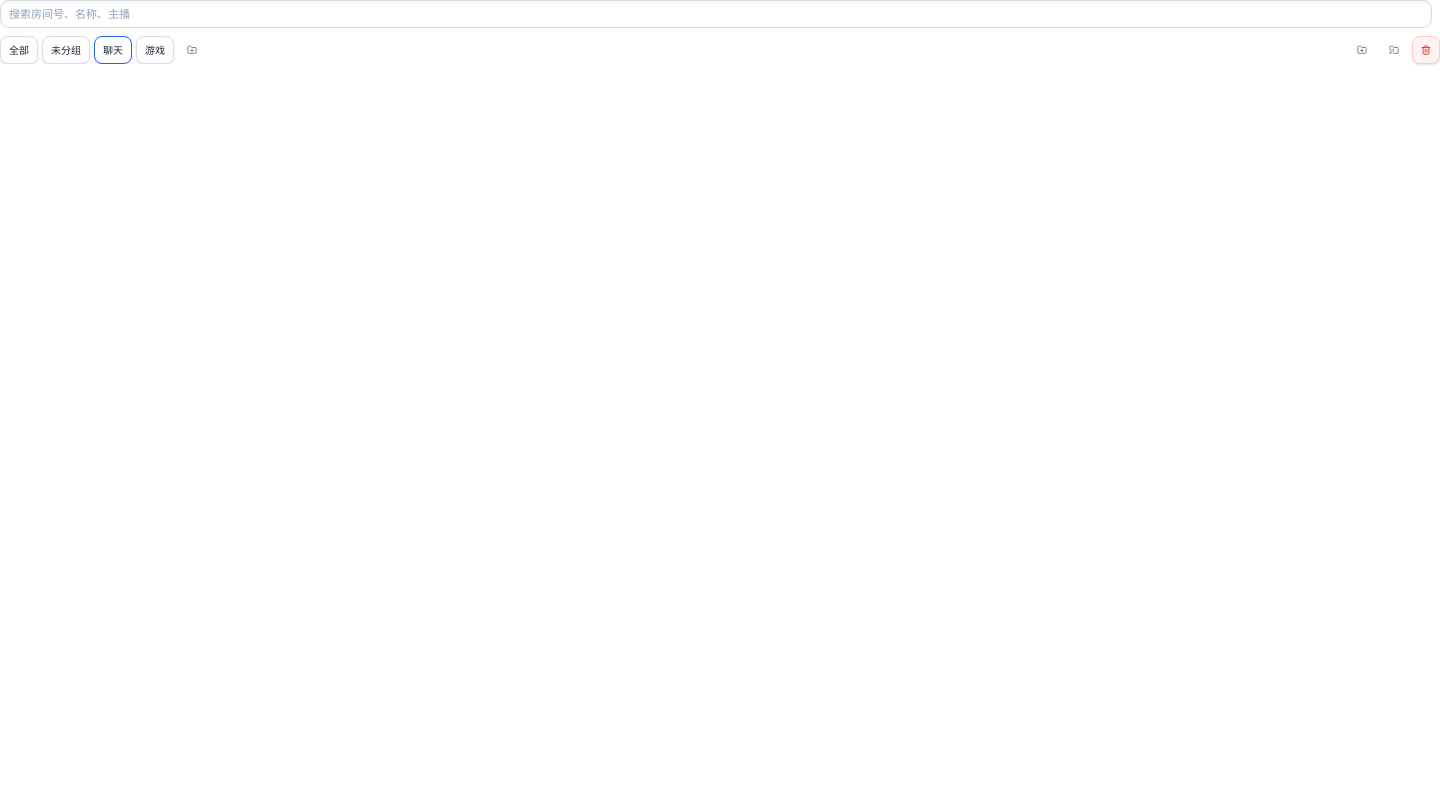
it: keeps delete confirmation and cancellation
Click the button named "删除分组". click: click(1426, 50)
box: [1412,36,1439,64]
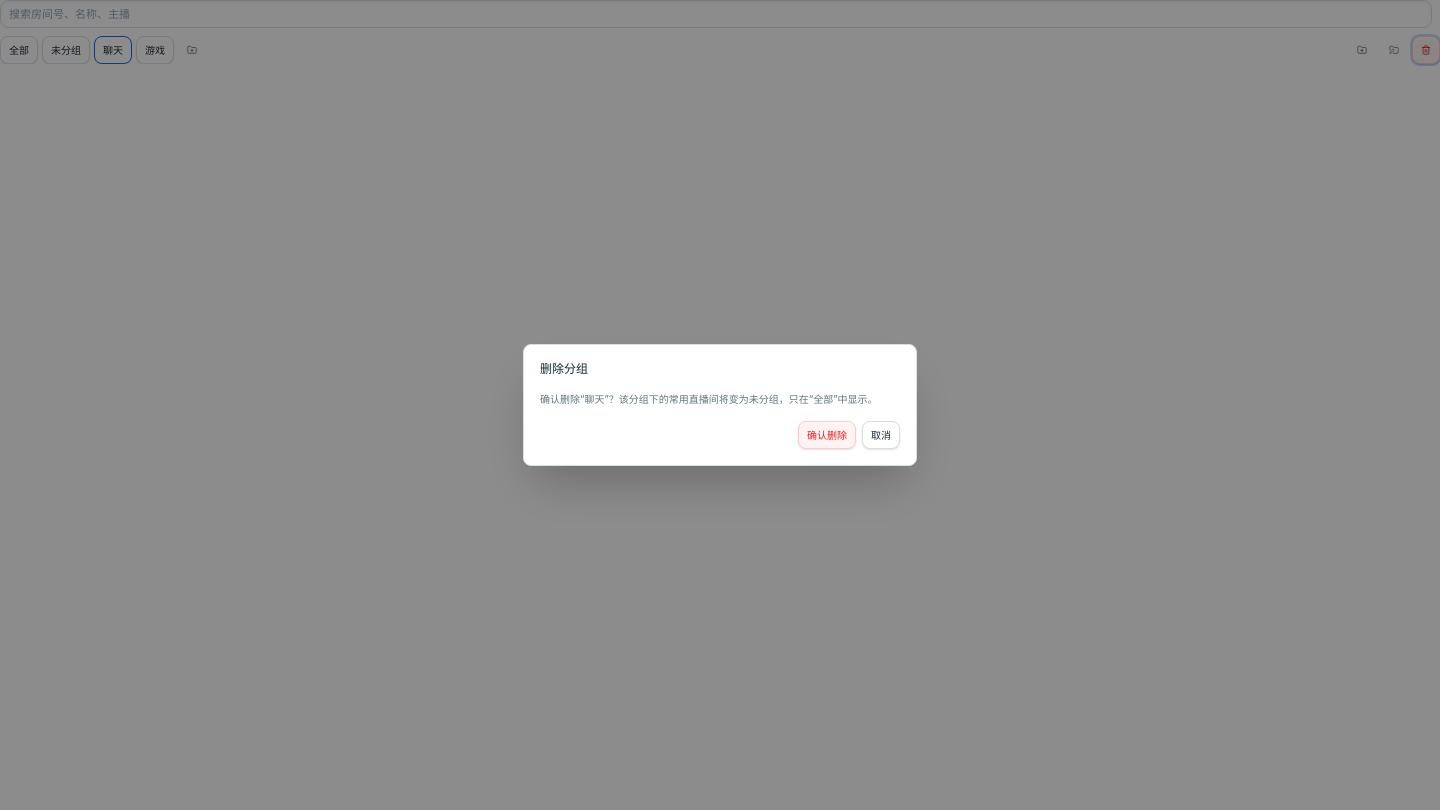
Expected: the dialog "删除分组" is shown, [523,344,917,466]
Click the button "取消". click: click(881, 435)
box: [862,421,900,449]
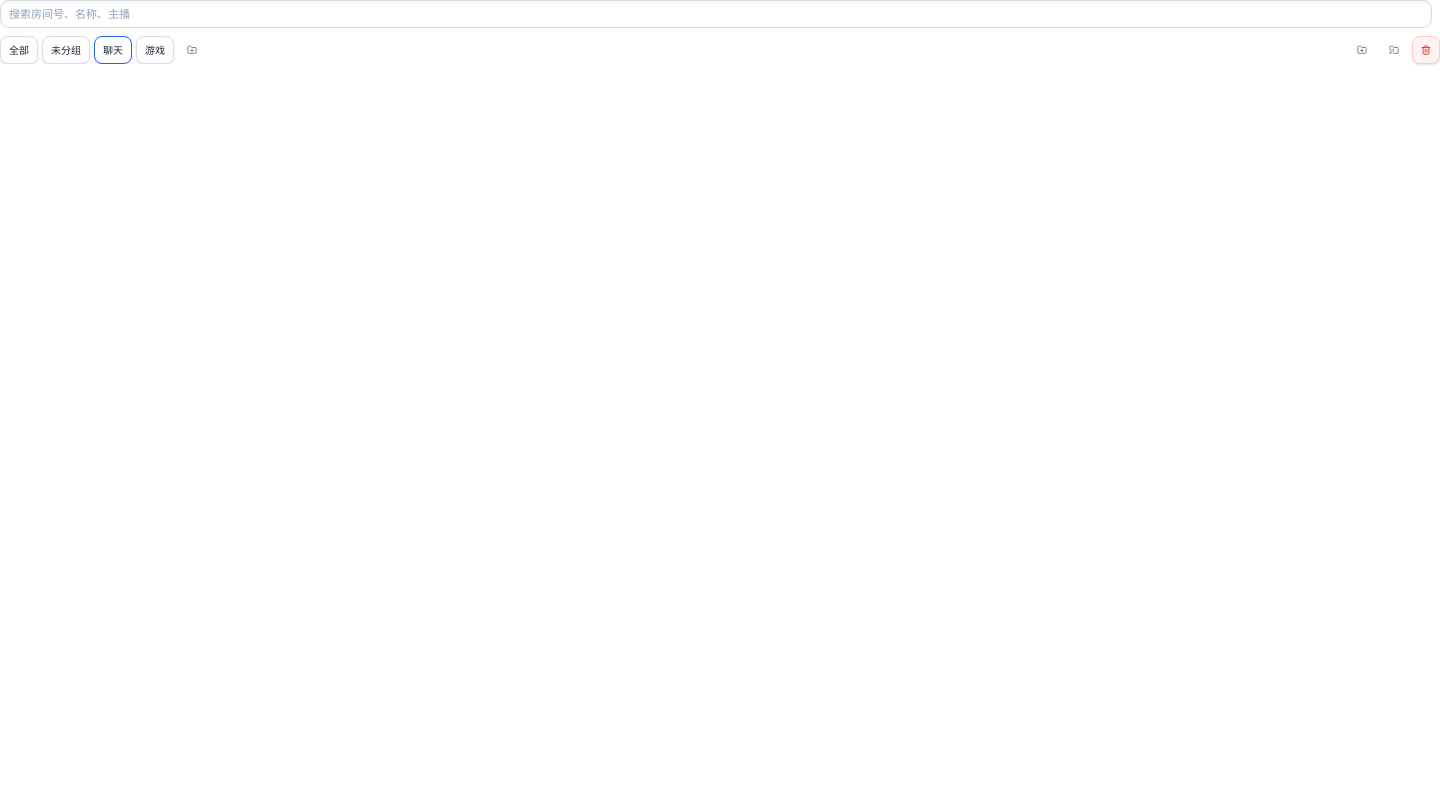
Expected: the text "删除分组" is gone
Click the button named "删除分组". click: click(1426, 50)
box: [1412,36,1439,64]
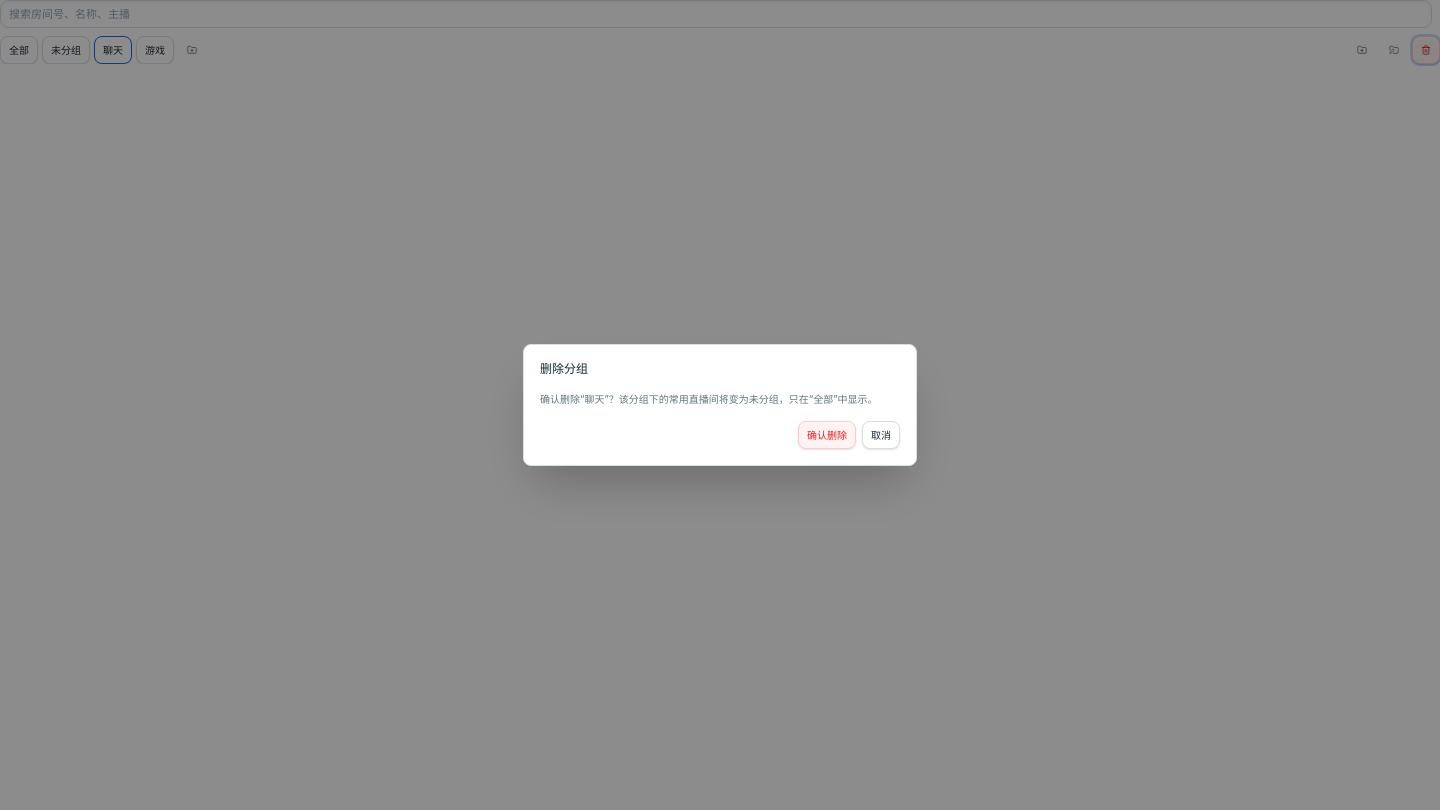
Click the button "确认删除". click: click(827, 435)
box: [798,421,856,449]
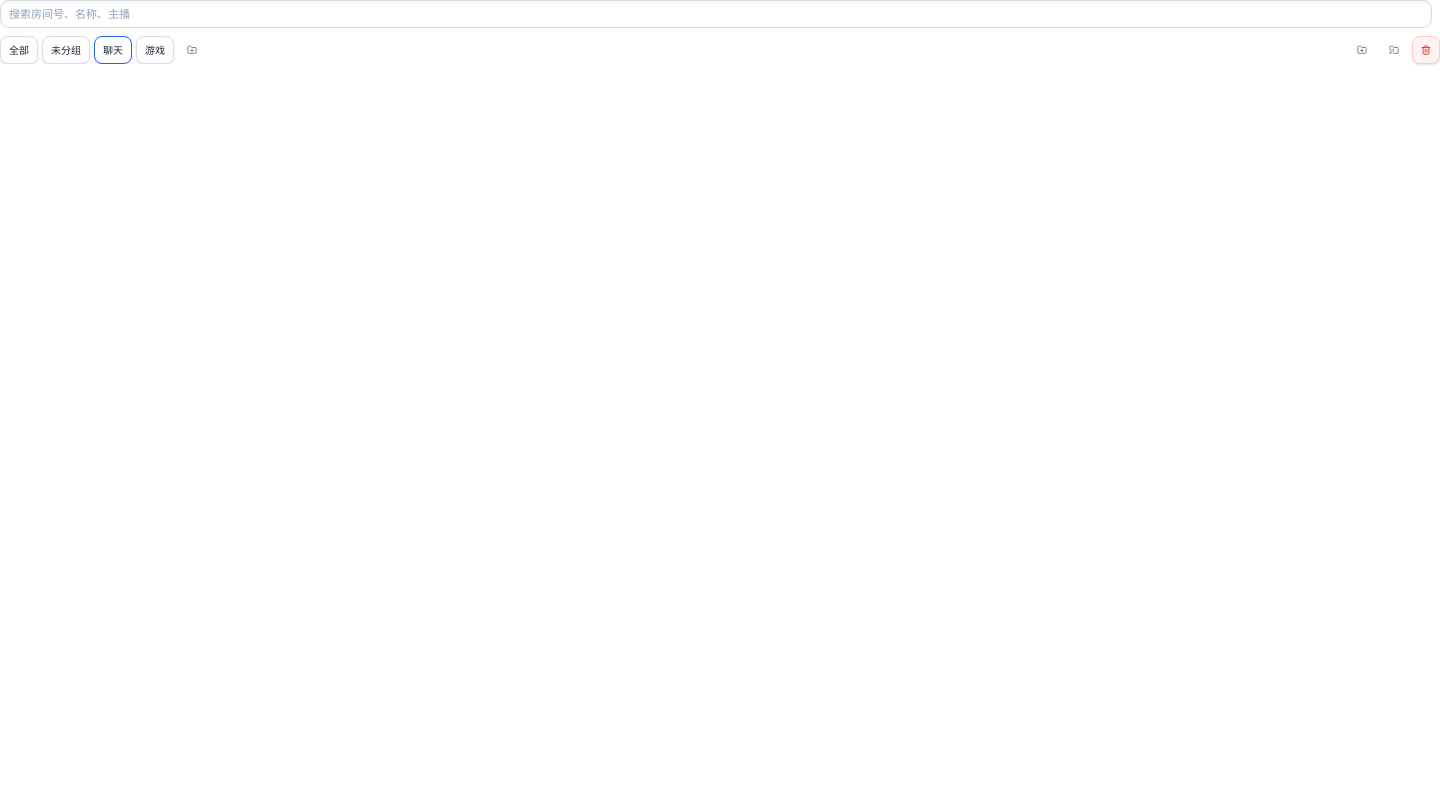
Expected: the text "删除分组" is gone
